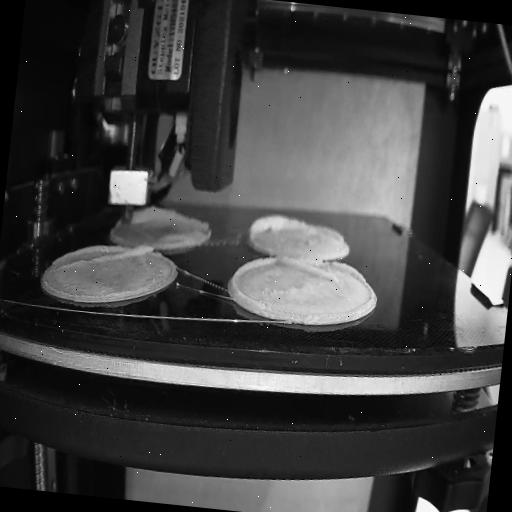over_extrusion: (59, 234, 156, 282), (276, 256, 368, 288), (226, 254, 278, 310), (137, 198, 208, 228), (246, 212, 306, 247), (316, 226, 346, 241)
